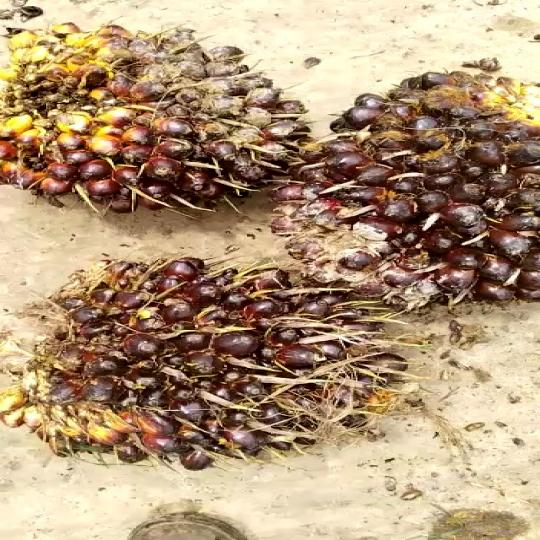kurang masak: (0, 258, 405, 464), (0, 12, 320, 204), (323, 57, 540, 311)
